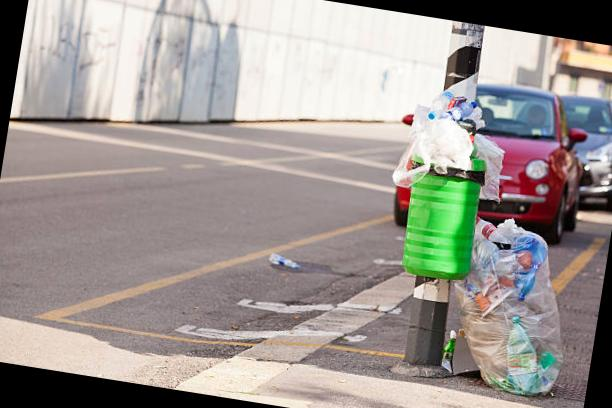trash: (422, 212, 595, 400), (406, 68, 514, 181)
trash_can_overflow: (316, 66, 581, 408)
